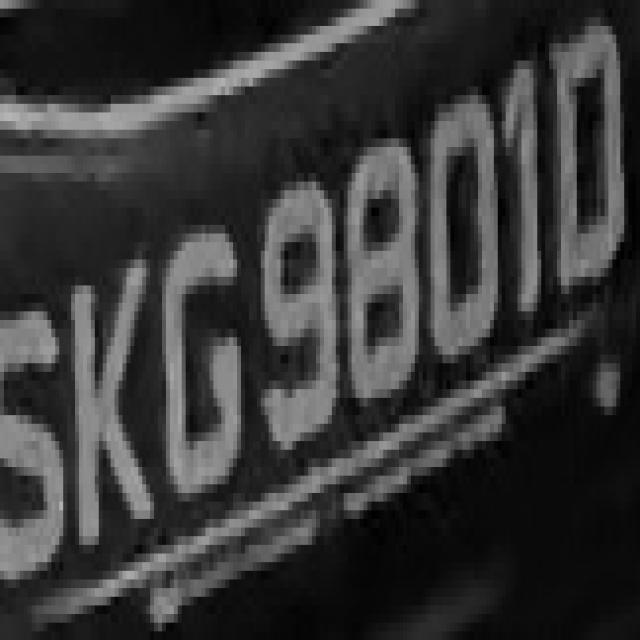0: (422, 87, 502, 389)
1: (506, 0, 545, 346)
8: (332, 104, 415, 441)
9: (253, 165, 336, 484)
D: (545, 17, 636, 320)
G: (146, 199, 237, 519)
K: (67, 251, 154, 571)
S: (4, 285, 71, 597)
